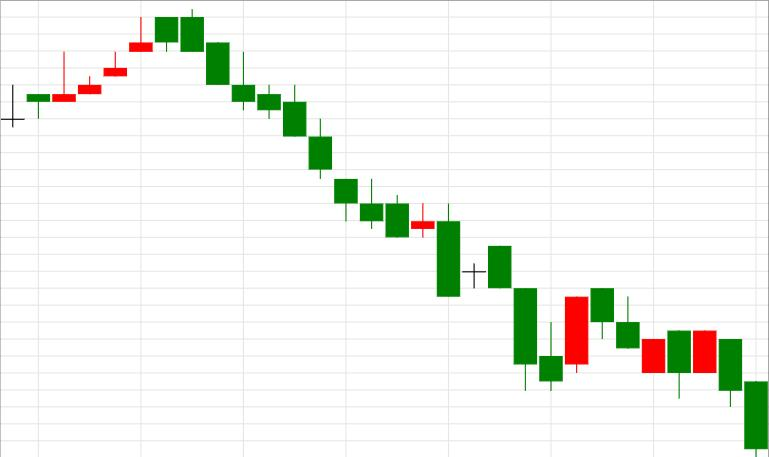inverse_hammer_rise: (437, 203, 562, 391)
